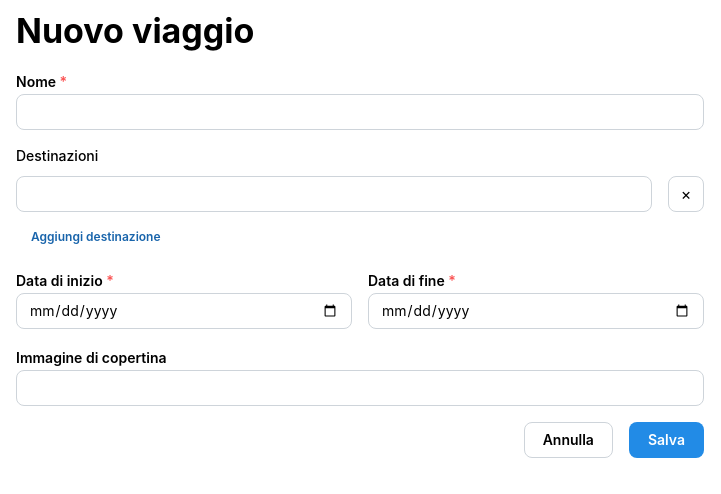
shows the server field error and keeps the form
The image size is (721, 494).
Type "Roma" into the field labelled "Nome *".
click(360, 112); type("Roma")  # box top-left (16, 94), bottom-right (704, 130)
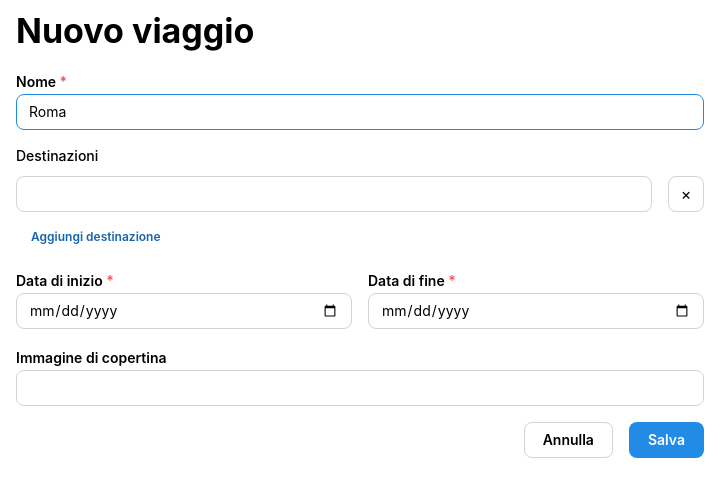
Type "2026-05-10" into the date field labelled "Data di inizio *".
click(184, 311); type("2026-05-10")  # box top-left (16, 293), bottom-right (352, 329)
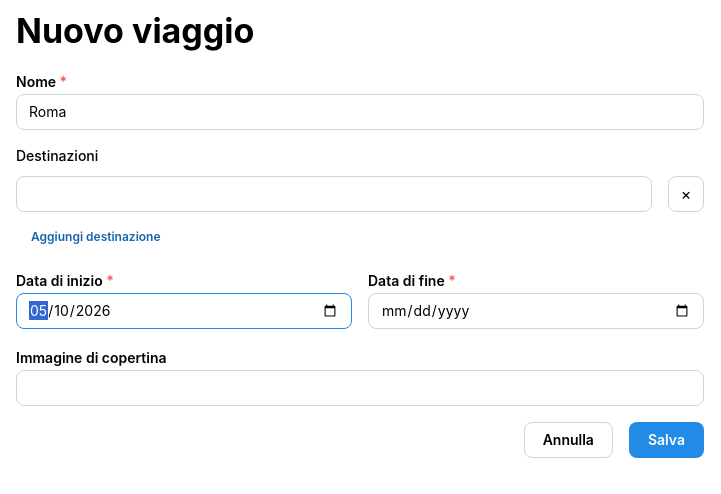
Type "2026-05-01" into the date field labelled "Data di fine *".
click(536, 311); type("2026-05-01")  # box top-left (368, 293), bottom-right (704, 329)
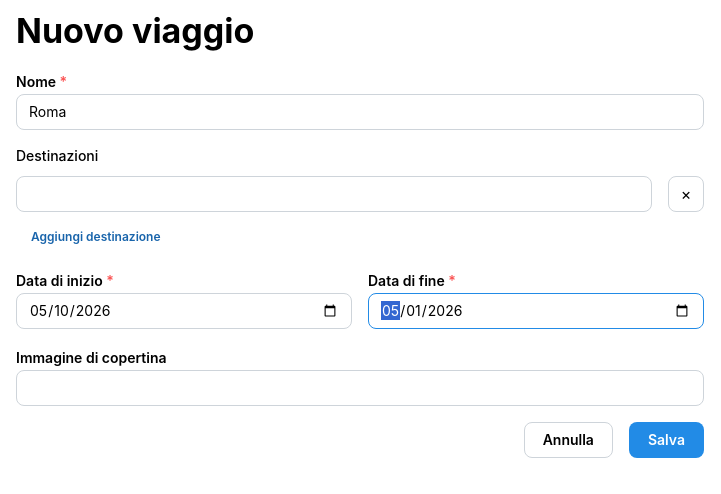
Click the button "Salva".
click(666, 440)  # box top-left (629, 422), bottom-right (704, 458)
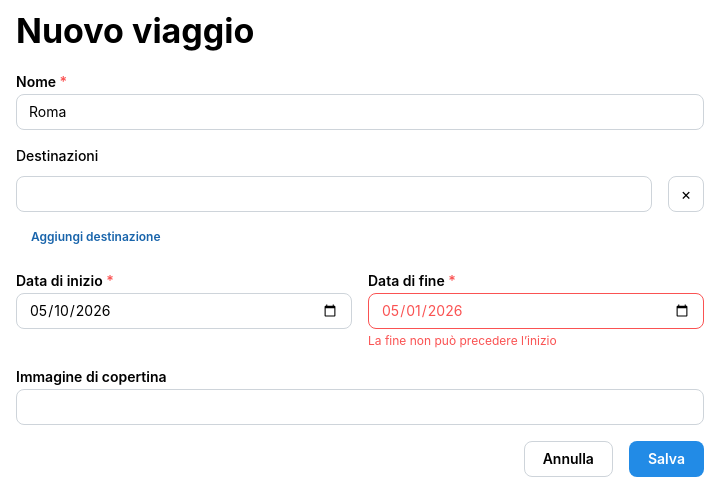
Now the text "La fine non può precedere l’inizio" is shown, box top-left (368, 333), bottom-right (557, 348)
